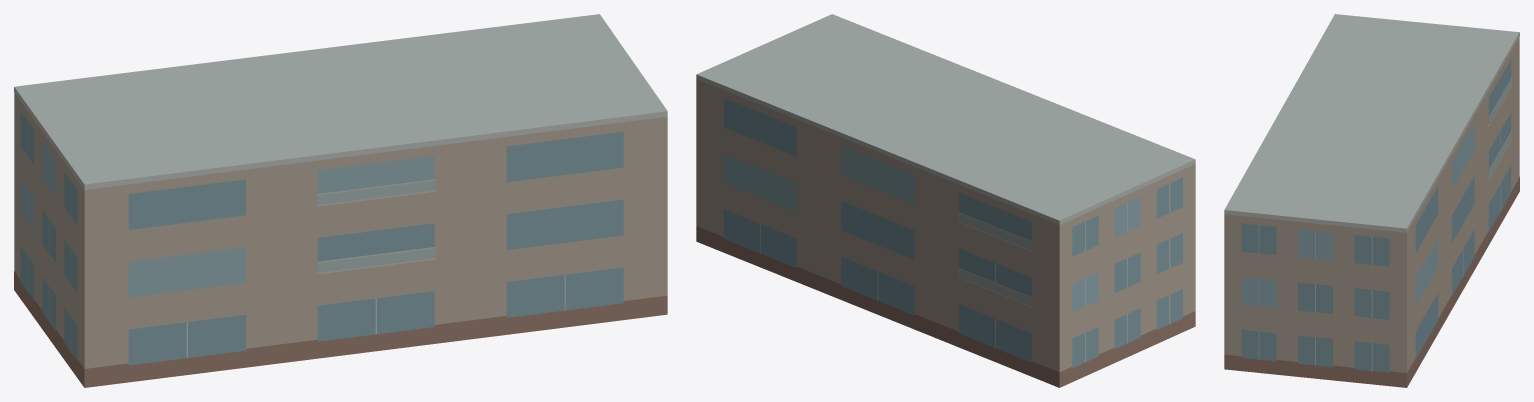
The model's file is survey-upis-33029136.glb.
3 views of the same model, side by side, from view 1: azimuth 30°, elevation 25°; view 2: azimuth 150°, elevation 25°; view 3: azimuth 270°, elevation 25° (orthographic). The views are drawn at different scales.
Parts seen in each view (by area): view 1: survey-upis-33029136.tmp; view 2: survey-upis-33029136.tmp; view 3: survey-upis-33029136.tmp.
Boxes of the visible parts, x1,y1,x2,y2 form: survey-upis-33029136.tmp: (14, 14, 667, 387); survey-upis-33029136.tmp: (696, 14, 1195, 387); survey-upis-33029136.tmp: (1224, 14, 1519, 387).
Bounding box in the file's own units: 26.44 × 9.15 × 15.39.
